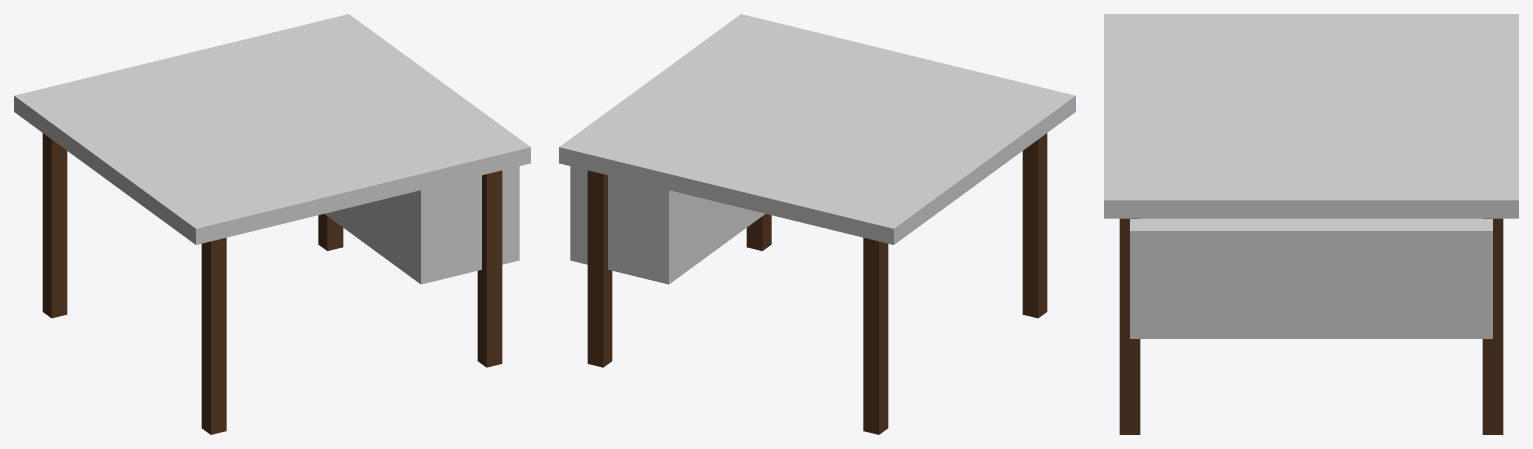
The model's file is escritorio.glb.
3 views of the same model, side by side, from view 1: azimuth 30°, elevation 25°; view 2: azimuth 150°, elevation 25°; view 3: azimuth 270°, elevation 25° (orthographic). The views are drawn at different scales.
Parts seen in each view (by area): view 1: escritorio; view 2: escritorio; view 3: escritorio.
Boxes of the visible parts, <box> form: escritorio: <box>14,14,530,434</box>; escritorio: <box>559,14,1075,434</box>; escritorio: <box>1104,14,1518,434</box>.
Bounding box in the file's own units: 1.3 × 0.8 × 1.22.
